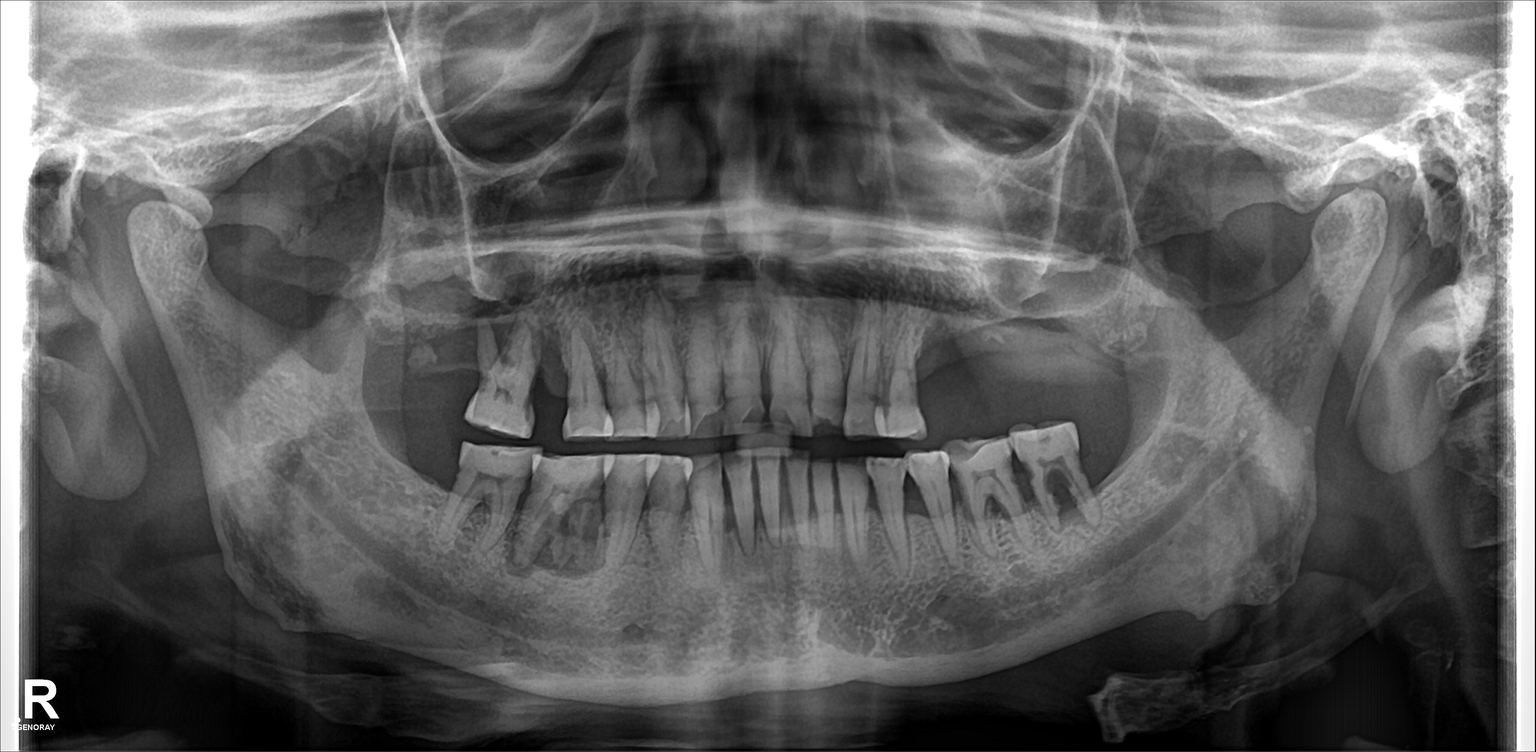Missing Tooth: (385, 434, 448, 556), (417, 313, 475, 423), (369, 311, 414, 422), (1086, 411, 1129, 512), (998, 309, 1043, 404), (531, 344, 578, 432), (1061, 303, 1101, 401), (963, 316, 1003, 407), (922, 316, 959, 411)
Periapical Lesion: (1035, 454, 1079, 524)
